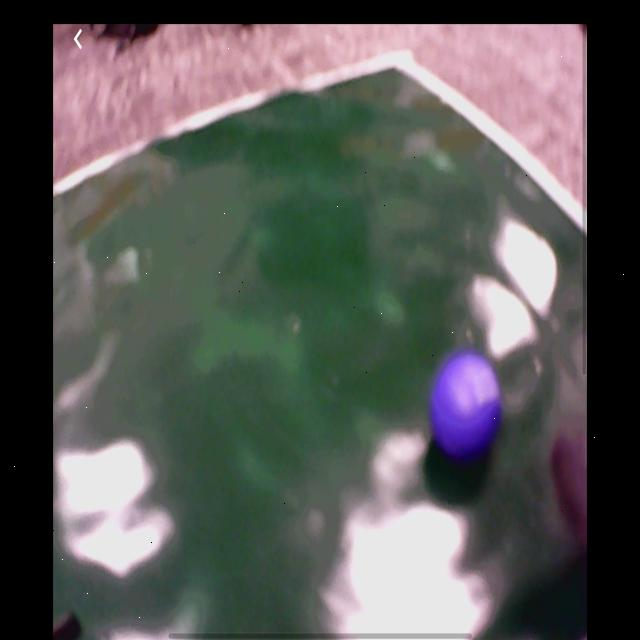ball: (432, 349, 503, 460)
